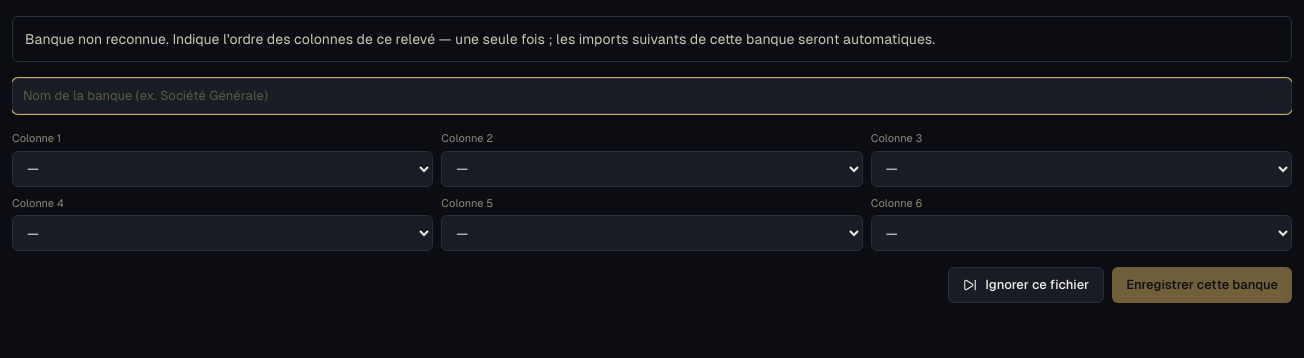
Scenario: MappingAssistantView › blocks submit and explains when the composition is invalid
Type "X Bank" into the field with placeholder "Nom de la banque (ex. Société Générale)" at coordinates (652, 96), box [12, 78, 1292, 114]
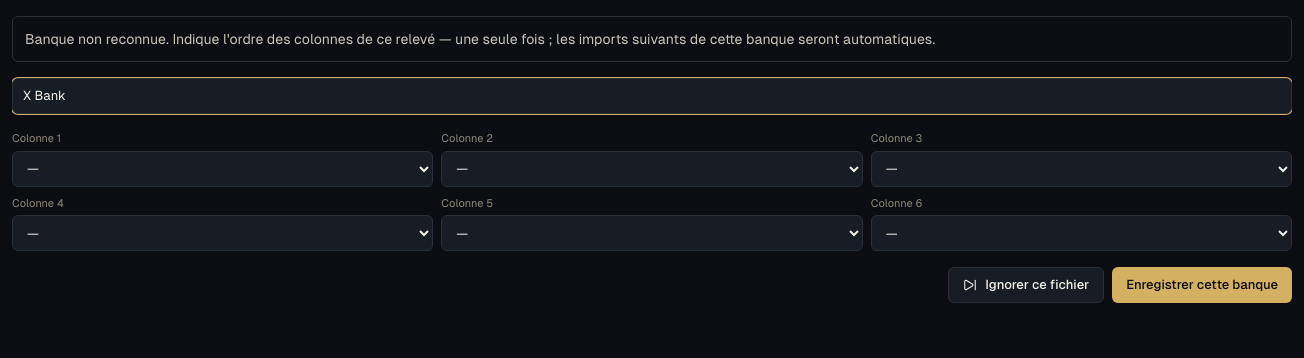
Select "Date" in the dropdown labelled "Colonne 1" at coordinates (223, 168), box [12, 150, 433, 186]
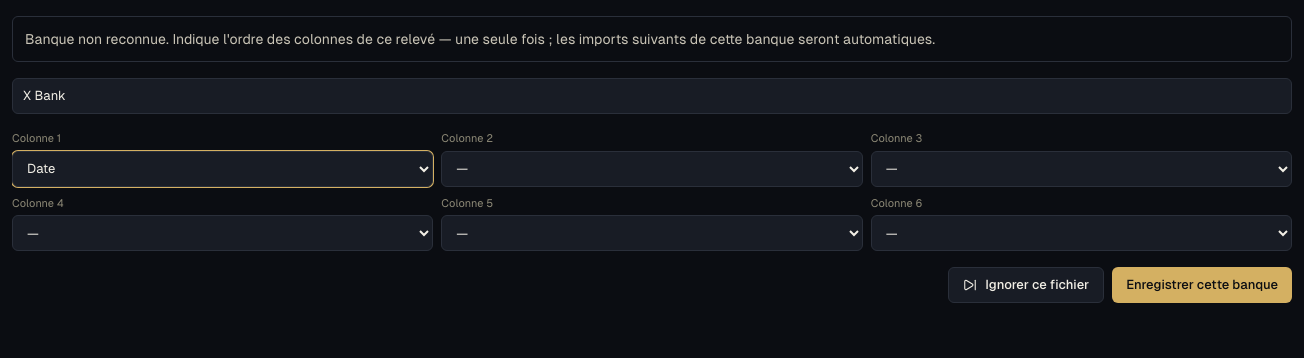
Note: no label, no amount yet
Click the button "Enregistrer cette banque" at coordinates (1202, 285), box [1112, 267, 1292, 303]
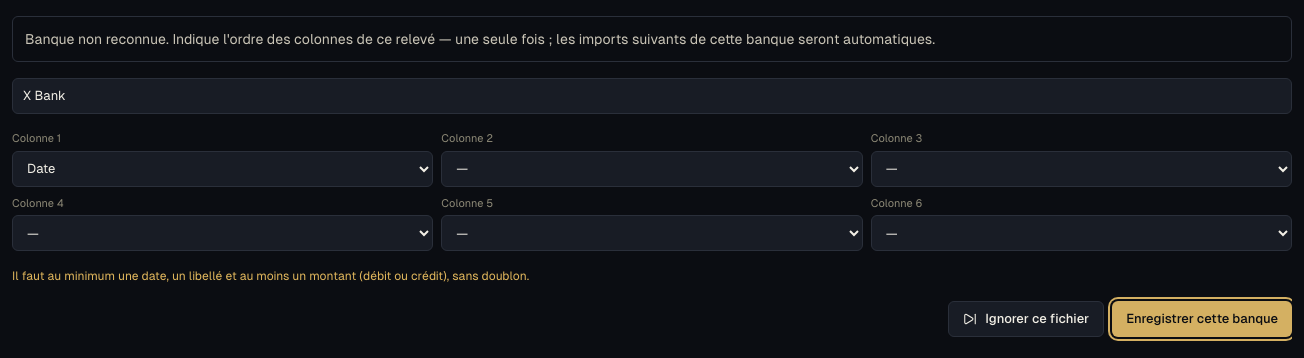
Expected: the text "libellé et au moins un montant" is shown, [12, 269, 529, 283]
